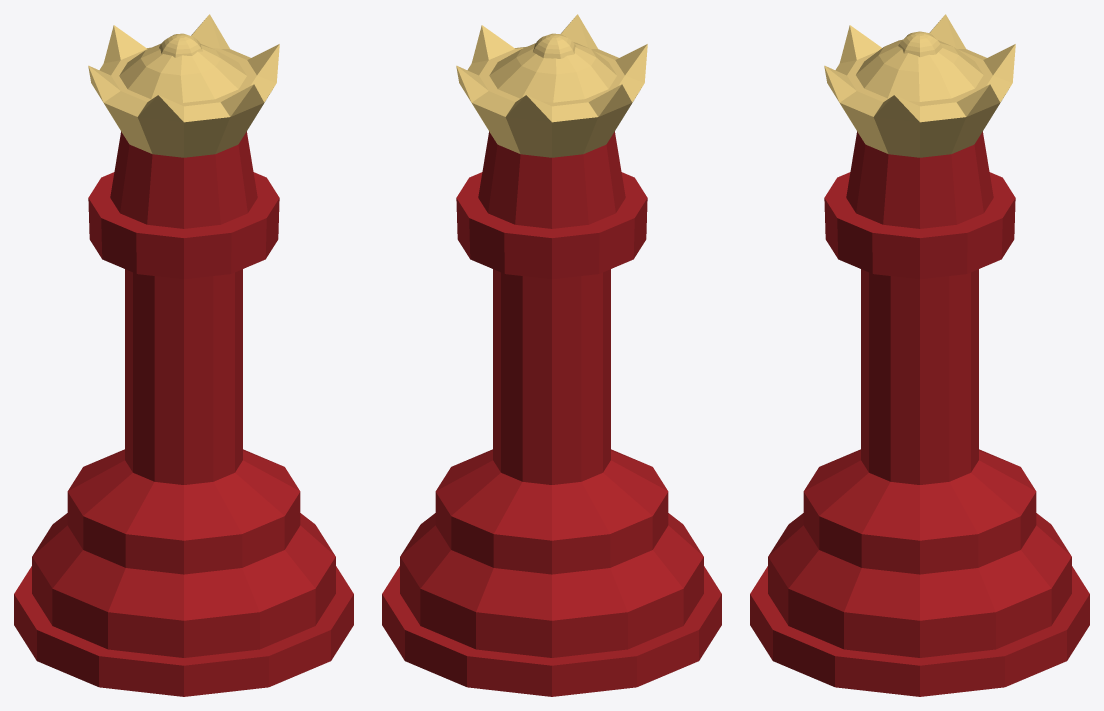
File: lowpoly_q_b.glb
3 views of the same model, side by side, from view 1: azimuth 30°, elevation 25°; view 2: azimuth 150°, elevation 25°; view 3: azimuth 270°, elevation 25° (orthographic).
Parts seen in each view (by area): view 1: x; view 2: x; view 3: x.
Part boxes in pixels (box(x1,y1,x2,y2)): x: box(14, 14, 353, 696); x: box(382, 14, 721, 696); x: box(750, 14, 1089, 696).
Size of the model in its own units: 0.4698 by 0.9 by 0.4698.
